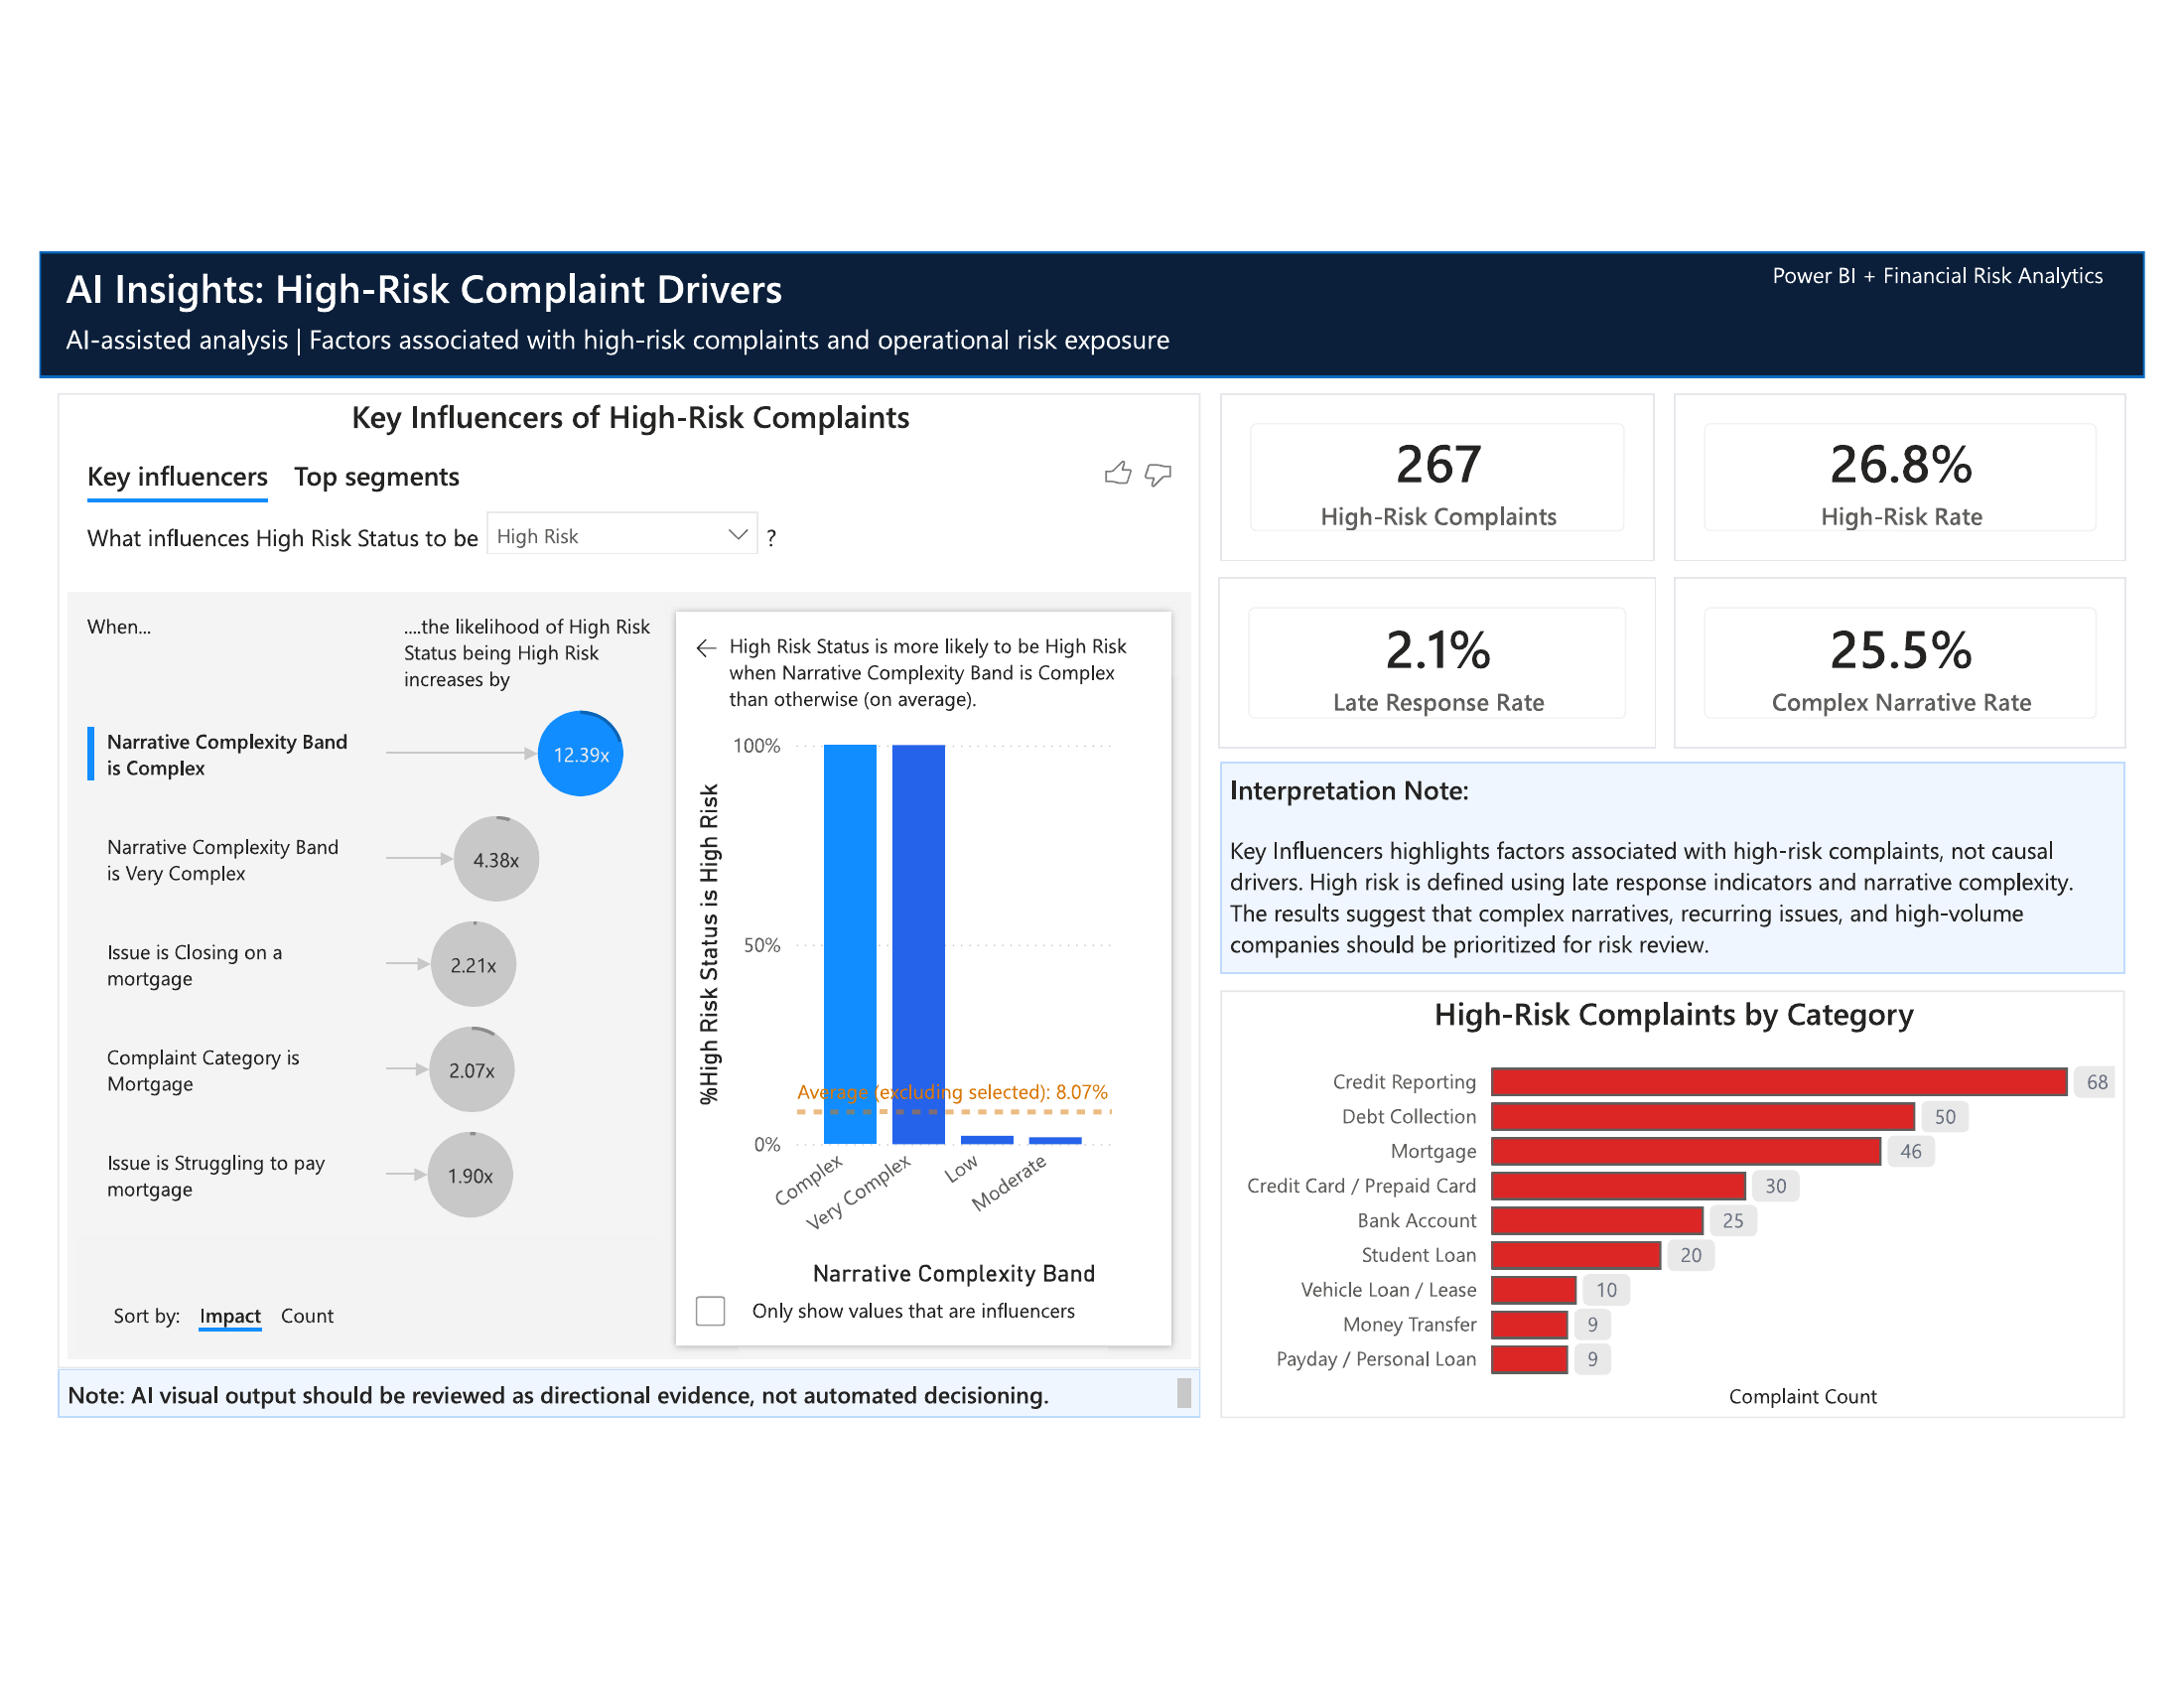

This screenshot's page, from the dashboard's own definition file:
{"tool":"powerbi","page":{"name":"AI Risk Drivers","canvas":[1280,720],"ordinal":6},"visuals":[{"type":"shape","box":[0,0,1280,76],"z":0},{"type":"textbox","box":[10.9,0,448.8,47.1],"z":1000},{"type":"textbox","box":[10.9,37.4,694.9,38.6],"z":2000},{"type":"textbox","box":[1040,0,229.2,37.4],"z":3000},{"type":"keyDriversVisual","title":"Key Influencers of High-Risk Complaints","fields":{"Target":["Fact_Complaints.High Risk Status"],"ExplainBy":["Fact_Complaints.Narrative Complexity Band","Dim_Category.Complaint Category","Dim_Company.Company","Fact_Complaints.Issue","Dim_Response.Response Outcome"]},"box":[10.9,85.7,694.9,593.6],"z":4000},{"type":"cardVisual","fields":{"Data":["_Measures.High-Risk Complaints"]},"box":[717.8,85.7,264.2,102.5],"z":5000},{"type":"cardVisual","fields":{"Data":["_Measures.High-Risk Complaint Rate"]},"box":[994.3,85.8,274.2,102.7],"z":6000},{"type":"cardVisual","fields":{"Data":["_Measures.Late Response Rate"]},"box":[717.5,197.6,265.2,104],"z":7000},{"type":"textbox","box":[717.8,310.1,550.1,129.1],"z":8000},{"type":"cardVisual","fields":{"Data":["_Measures.Complex Narrative Rate"]},"box":[994.3,197.6,274.2,104],"z":9000},{"type":"clusteredBarChart","title":"High-Risk Complaints by Category","fields":{"Category":["Dim_Category.Complaint Category"],"Y":["_Measures.High-Risk Complaints"]},"box":[717.8,448.8,550.1,260.6],"z":10000},{"type":"textbox","box":[10.9,679.2,694.9,30.2],"z":11000}]}

Visuals, with their boxes on the page's 1280x720 design canvas (x1, y1, x2, y2). These are canvas units, not pixel positions in the 2184x1688 screenshot, which may show the page scaled, cropped or inside an application window:
shape: <bbox>0, 0, 1280, 76</bbox>
textbox: <bbox>11, 0, 460, 47</bbox>
textbox: <bbox>11, 37, 706, 76</bbox>
textbox: <bbox>1040, 0, 1269, 37</bbox>
"Key Influencers of High-Risk Complaints" keyDriversVisual: <bbox>11, 86, 706, 679</bbox>
cardVisual - _Measures.High-Risk Complaints: <bbox>718, 86, 982, 188</bbox>
cardVisual - _Measures.High-Risk Complaint Rate: <bbox>994, 86, 1268, 188</bbox>
cardVisual - _Measures.Late Response Rate: <bbox>718, 198, 983, 302</bbox>
textbox: <bbox>718, 310, 1268, 439</bbox>
cardVisual - _Measures.Complex Narrative Rate: <bbox>994, 198, 1268, 302</bbox>
"High-Risk Complaints by Category" clusteredBarChart: <bbox>718, 449, 1268, 709</bbox>
textbox: <bbox>11, 679, 706, 709</bbox>
